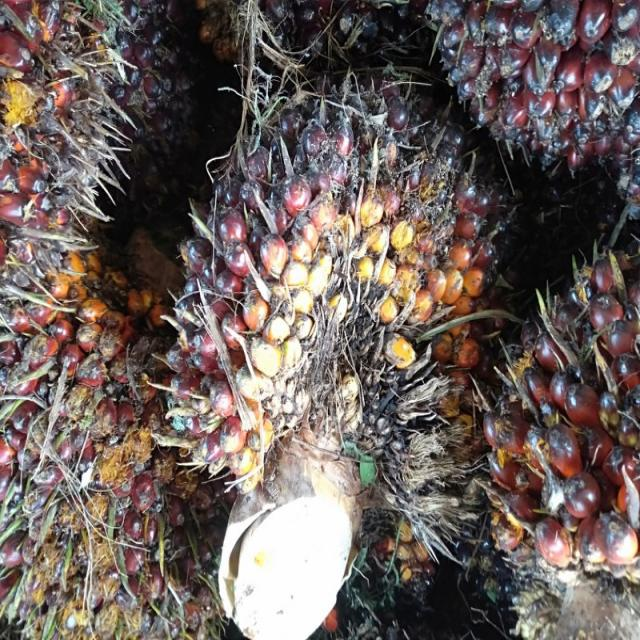fraksi 1: (164, 88, 498, 543)
